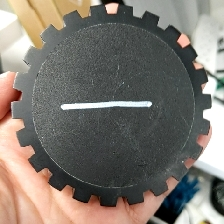gear: (9, 3, 213, 209)
